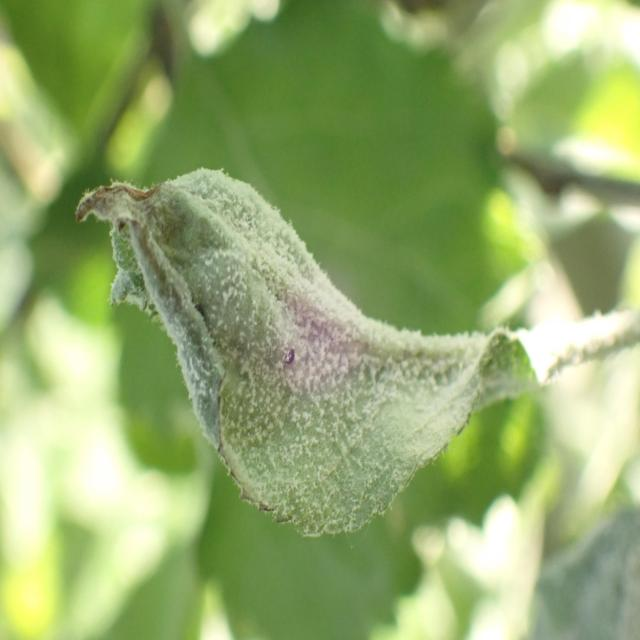Powdery_mildew: (69, 146, 563, 560)
